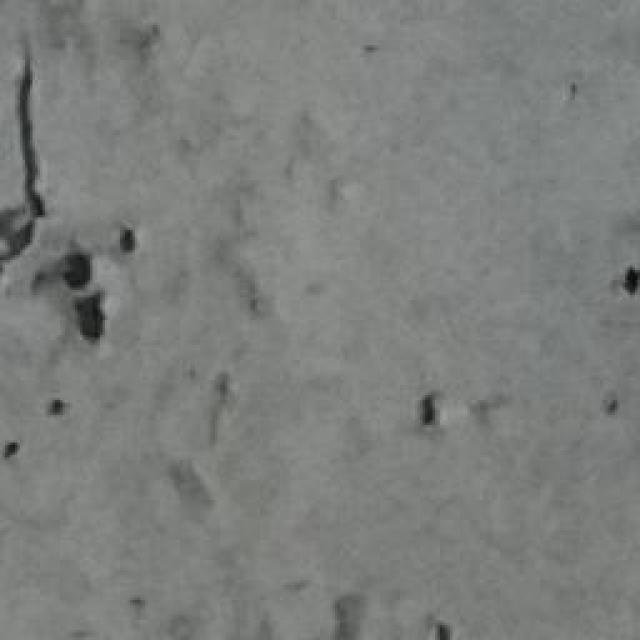Longitudinal: (0, 34, 49, 270)
